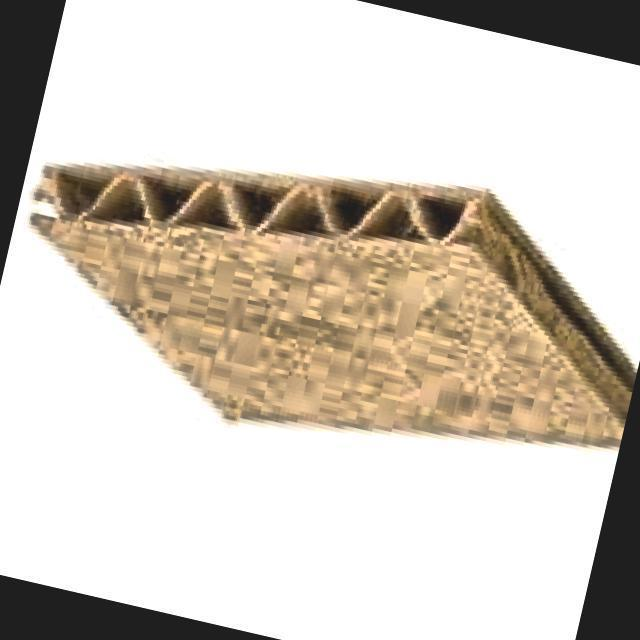cardboard: (0, 92, 640, 518)
